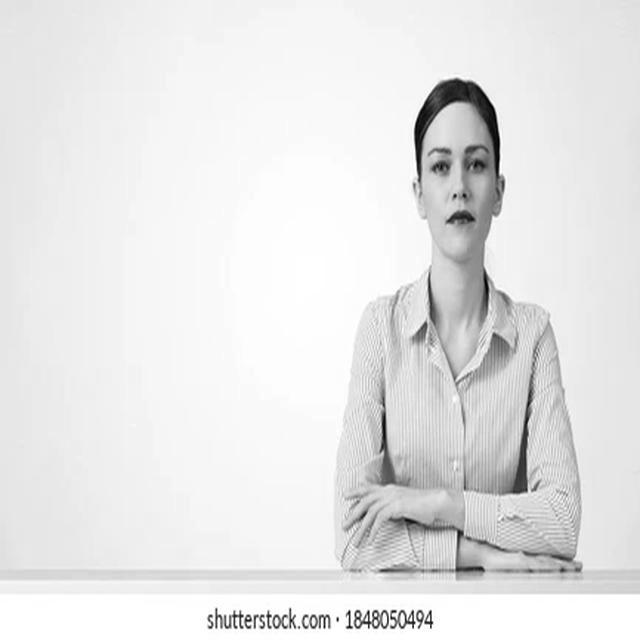Neutral: (422, 106, 496, 261)
